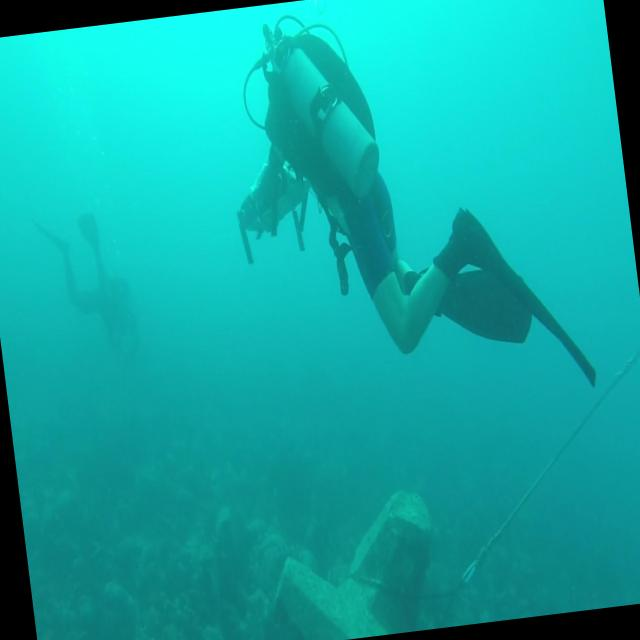human: (212, 0, 597, 429), (29, 202, 142, 367)
